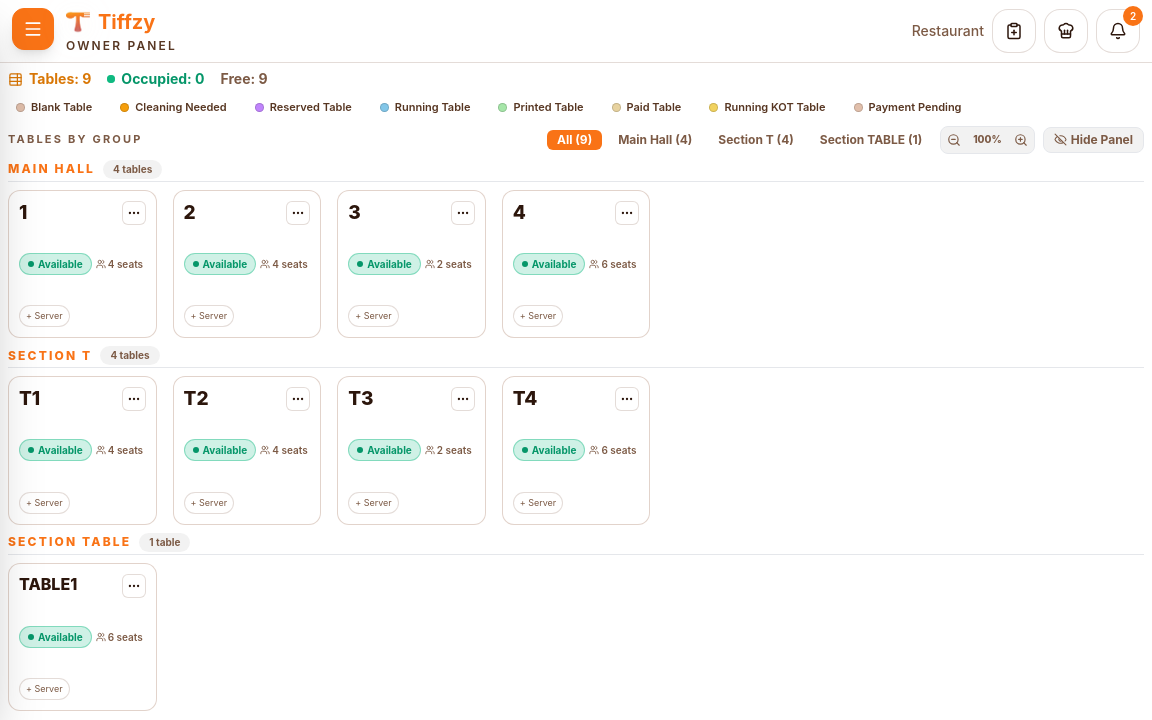
Scenario: COMPLETE FUNCTIONAL QA AUDIT: Owner Dashboard (/owner) › TC-12: Three-dot menu actions (Edit, Copy QR, Move, Delete)
The image size is (1152, 720).
Click the button titled "Actions for Table 2". click: (298, 212)
box: [286,200,310,224]
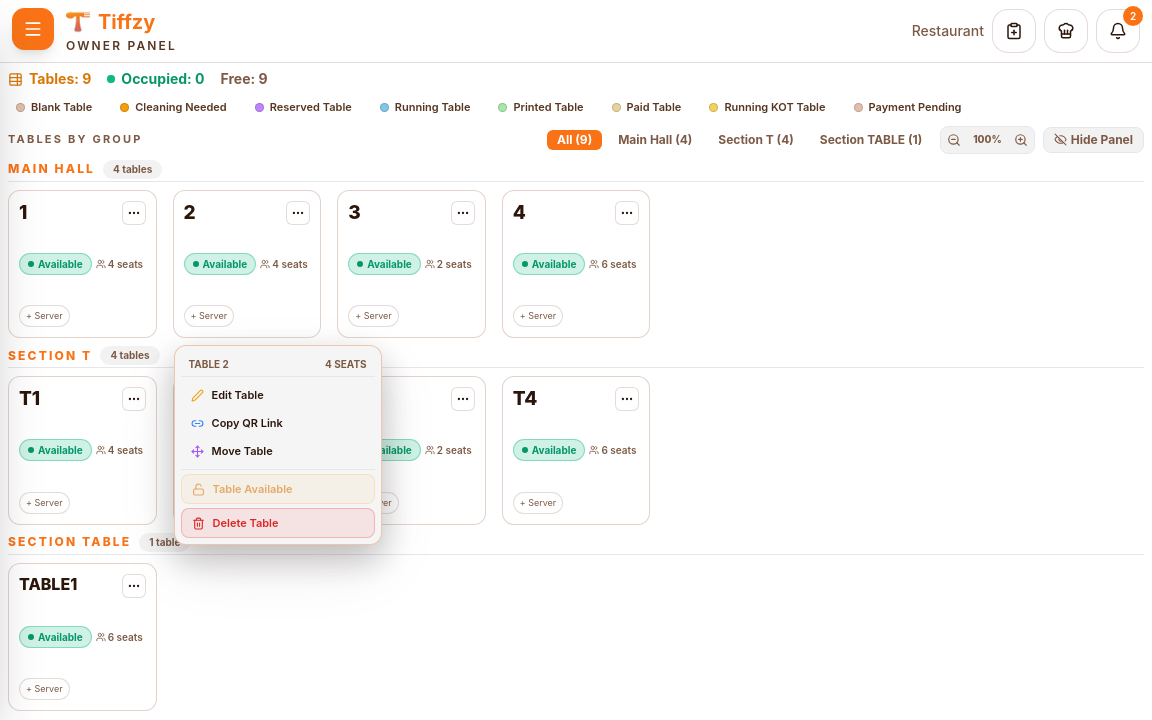
Expected: the text "Edit Table" is shown, [212,387,264,403]
Expected: the text "Copy QR Link" is shown, [212,415,283,431]
Expected: the text "Move Table" is shown, [212,443,273,459]
